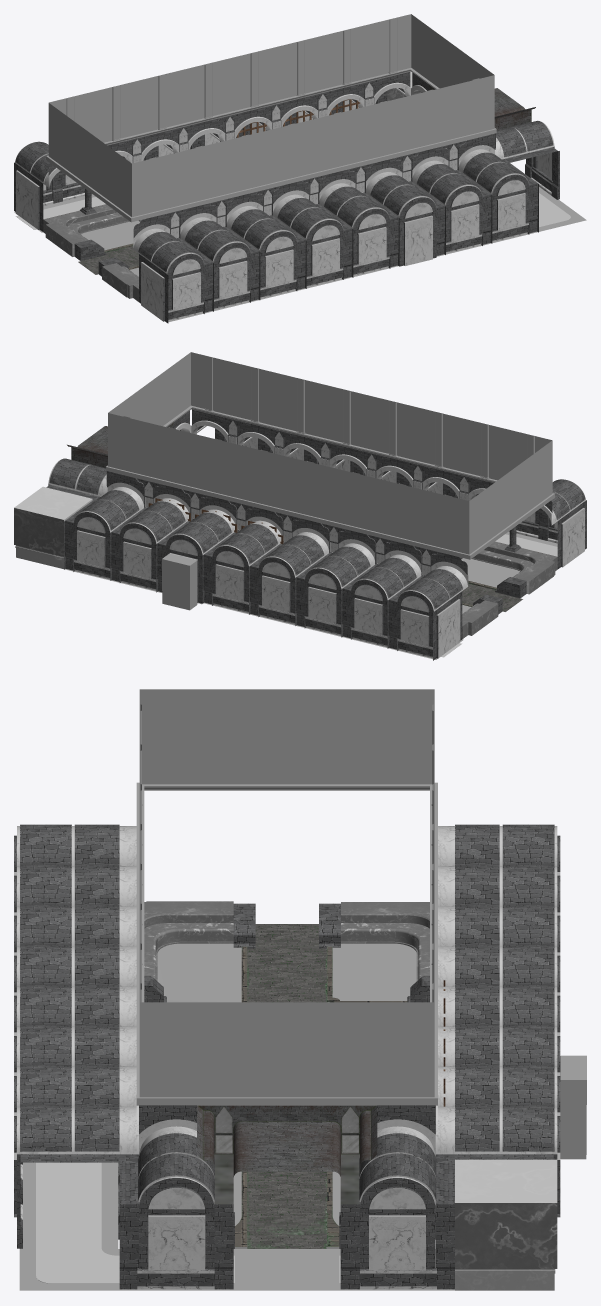
File: FBX_Cour.fbx
3 views of the same model, one above another, from view 1: azimuth 30°, elevation 25°; view 2: azimuth 150°, elevation 25°; view 3: azimuth 270°, elevation 25° (orthographic). The views are drawn at different scales.
Parts seen in each view (by area): view 1: SM_Cour_Sommet_28, SM_Cour_Sommet_25, SM_Cour_Sommet_30, SM_Cour_Sommet_27, SM_Cour_Sommet_29, SM_Cour_Sommet_34, SM_Cour_Sommet_31, SM_Cour_Sommet_26, SM_Cour_Sommet_33, SM_Cour_Shadow_70, SM_Cour_83, SM_Cour_Sommet_19 (+53 smaller); view 2: SM_Cour_Sommet_30, SM_Cour_Sommet_34, SM_Cour_Sommet_31, SM_Cour_Sommet_28, SM_Cour_Sommet_29, SM_Cour_Sommet_25, SM_Cour_Sommet_27, SM_Cour_84, SM_Cour_Sommet_32, SM_Cour_Sommet_33, SM_Cour_79, SM_Cour_Sommet_17 (+52 smaller); view 3: SM_Cour_Sommet_33, SM_Cour_Sommet_29, SM_Cour_44, SM_Cour_84, SM_Cour_82, SM_Cour_46, SM_Cour_47, SM_Cour_49, SM_Cour_Shadow_61, SM_Cour_38, SM_Cour_Shadow_31, SM_Cour_42 (+36 smaller).
Part boxes in pixels (x1,y1,x2,y2): SM_Cour_Sommet_28: [384, 75, 494, 155]; SM_Cour_Sommet_25: [292, 102, 384, 177]; SM_Cour_Sommet_30: [301, 14, 411, 93]; SM_Cour_Sommet_27: [201, 124, 292, 200]; SM_Cour_Sommet_29: [48, 103, 131, 216]; SM_Cour_Sommet_34: [209, 41, 300, 115]; SM_Cour_Sommet_31: [118, 63, 208, 138]; SM_Cour_Sommet_26: [132, 147, 200, 217]; SM_Cour_Sommet_33: [411, 14, 493, 88]; SM_Cour_Shadow_70: [399, 197, 436, 266]; SM_Cour_83: [43, 204, 129, 256]; SM_Cour_Sommet_19: [138, 130, 488, 220]; SM_Cour_Sommet_30: [108, 413, 217, 492]; SM_Cour_Sommet_34: [217, 440, 309, 515]; SM_Cour_Sommet_31: [309, 462, 400, 537]; SM_Cour_Sommet_28: [191, 352, 300, 431]; SM_Cour_Sommet_29: [469, 440, 552, 554]; SM_Cour_Sommet_25: [301, 379, 392, 453]; SM_Cour_Sommet_27: [392, 401, 483, 476]; SM_Cour_84: [14, 486, 92, 568]; SM_Cour_Sommet_32: [400, 484, 469, 554]; SM_Cour_Sommet_33: [108, 352, 190, 426]; SM_Cour_79: [471, 541, 557, 594]; SM_Cour_Sommet_17: [113, 468, 462, 557]; SM_Cour_Sommet_33: [139, 1002, 434, 1097]; SM_Cour_Sommet_29: [139, 689, 434, 784]; SM_Cour_44: [235, 924, 407, 1248]; SM_Cour_84: [455, 1159, 557, 1290]; SM_Cour_82: [197, 1105, 377, 1204]; SM_Cour_46: [36, 1162, 234, 1283]; SM_Cour_47: [19, 1162, 287, 1290]; SM_Cour_49: [360, 1178, 435, 1270]; SM_Cour_Shadow_61: [139, 1178, 214, 1270]; SM_Cour_38: [435, 1105, 557, 1154]; SM_Cour_Shadow_31: [17, 1105, 138, 1154]; SM_Cour_42: [157, 943, 241, 1225].
Bounding box in the file's own units: 4101 × 1249 × 2691.
